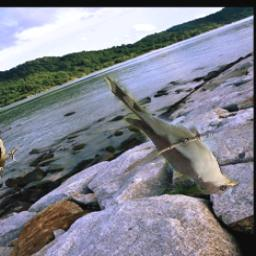Cuckoo: (105, 73, 240, 194)
Woodpecker: (0, 111, 21, 180)
